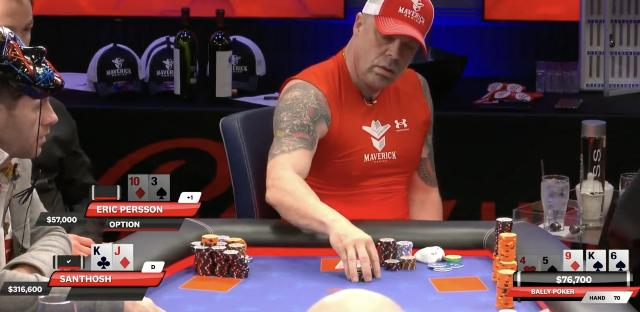10D: (129, 176, 147, 200)
3S: (152, 175, 168, 201)
4H: (518, 254, 536, 272)
5S: (542, 255, 558, 271)
6S: (610, 251, 628, 271)
9D: (564, 250, 582, 272)
JD: (114, 246, 132, 270)
KC: (92, 244, 111, 270)
KS: (588, 250, 604, 272)
